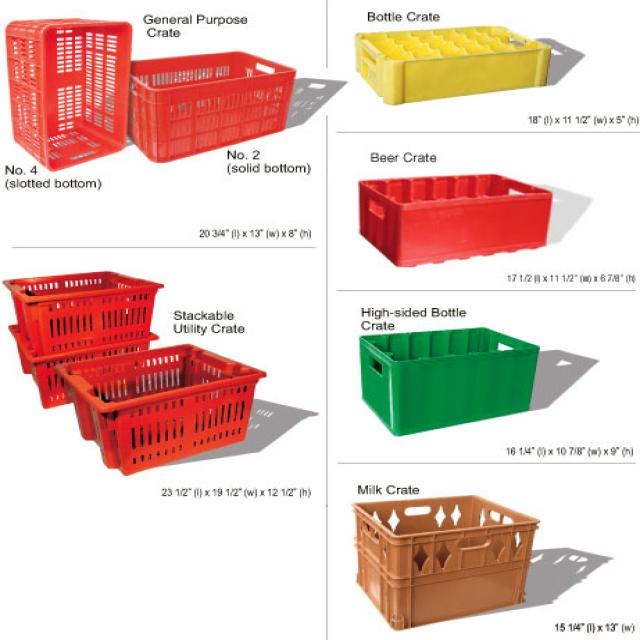basket: (58, 310, 283, 486), (352, 490, 548, 634), (3, 264, 175, 412), (360, 326, 544, 438), (5, 269, 167, 358)
